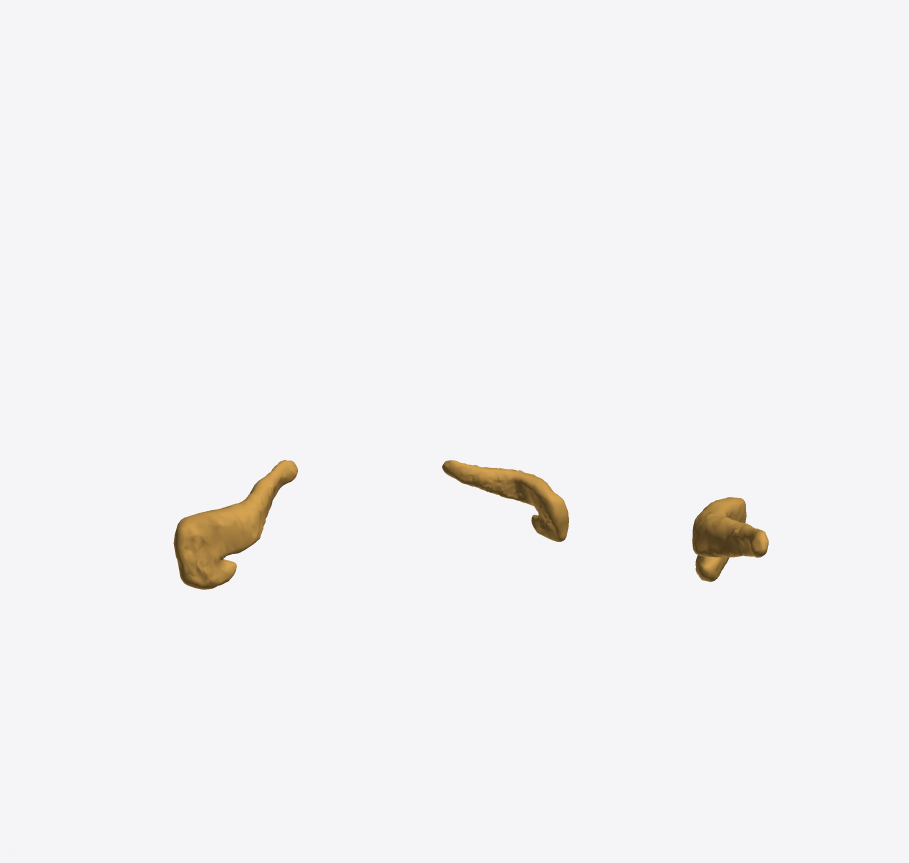
File: oshqozon_osti.glb
3 views of the same model, side by side, from view 1: azimuth 30°, elevation 25°; view 2: azimuth 150°, elevation 25°; view 3: azimuth 270°, elevation 25° (orthographic). The views are drawn at different scales.
Visible parts, largest first — view 1: oshqozon_osti; view 2: oshqozon_osti; view 3: oshqozon_osti.
Part boxes in pixels (bbox=[...]): oshqozon_osti: bbox=[173, 460, 297, 589]; oshqozon_osti: bbox=[442, 460, 568, 541]; oshqozon_osti: bbox=[692, 497, 768, 581].
Size of the model in its own units: 0.2441 by 0.7272 by 0.191.
